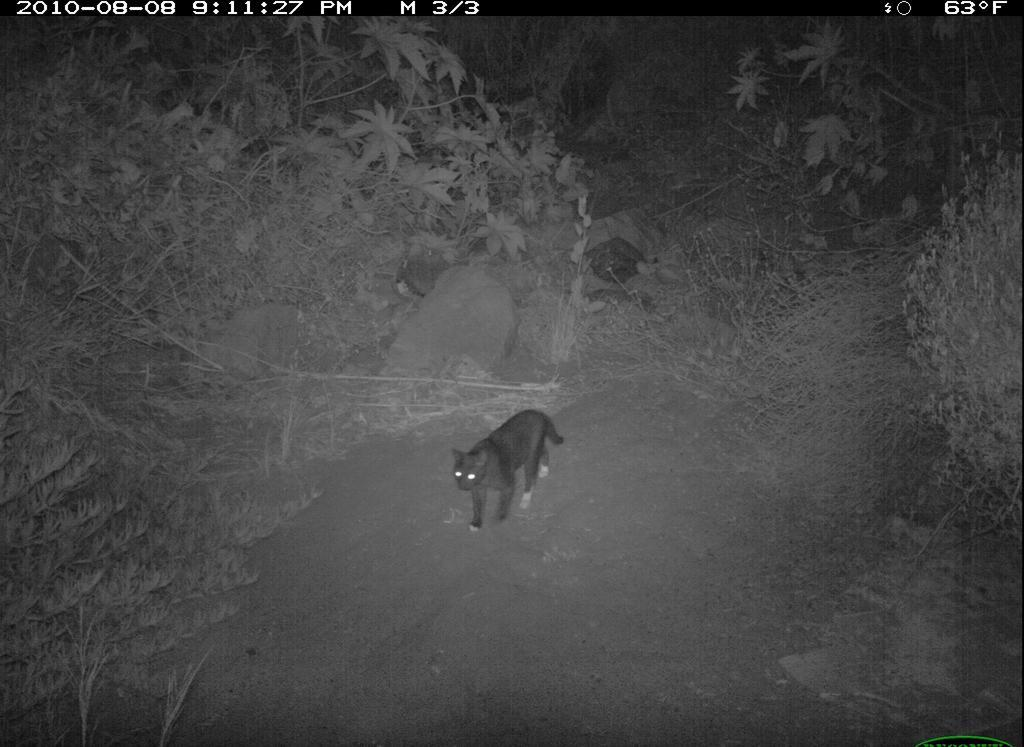cat: (449, 405, 565, 532)
